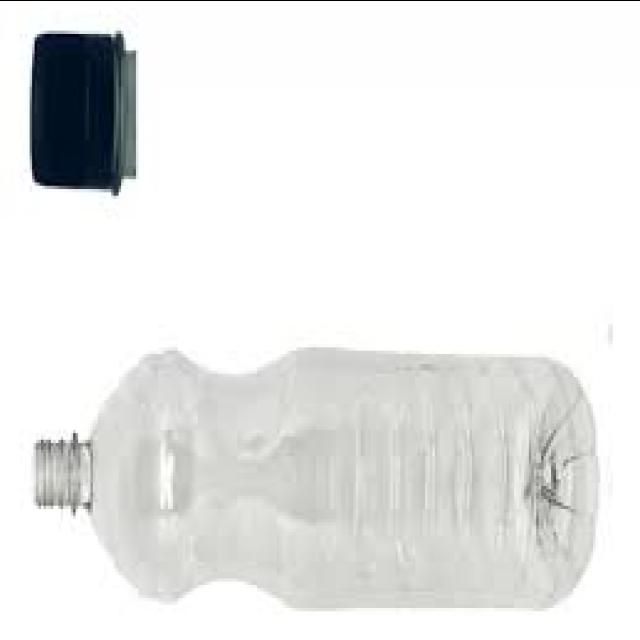bottom: (505, 327, 608, 624)
cap: (22, 20, 157, 207)
no_cap: (28, 412, 104, 550)
